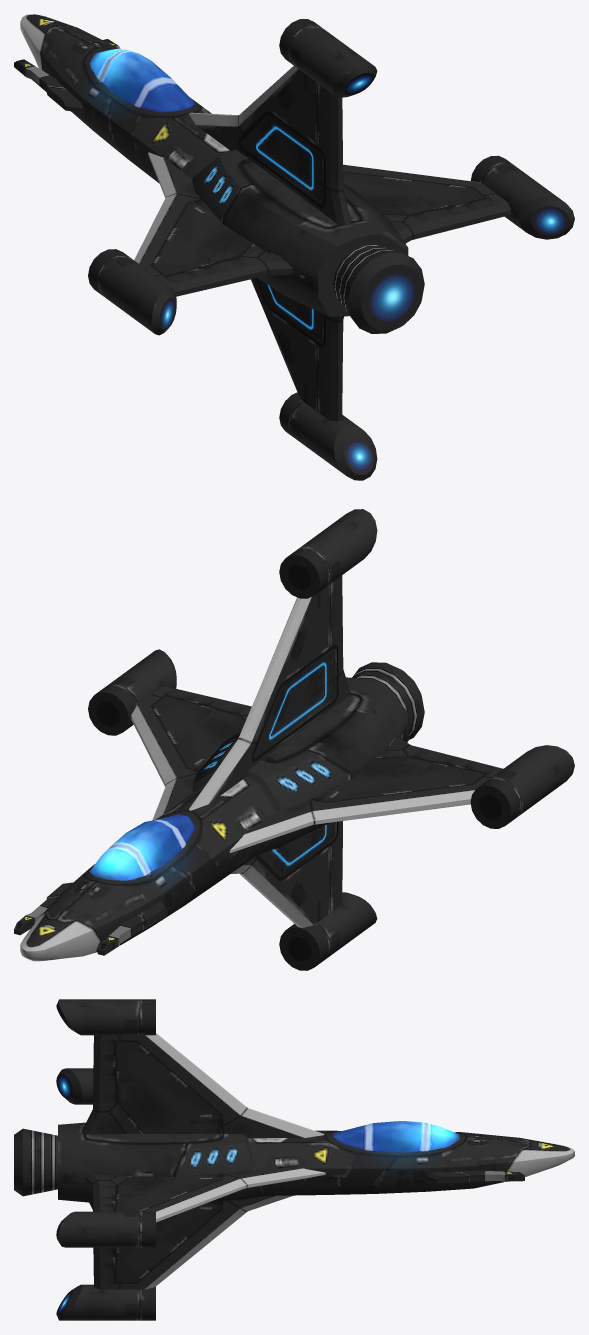
Rendered from scout12.gltf.
The picture shows the model from 3 angles, top to bottom: view 1: azimuth 30°, elevation 25°; view 2: azimuth 150°, elevation 25°; view 3: azimuth 270°, elevation 25°; orthographic projection. The views are drawn at different scales.
Parts seen in each view (by area): view 1: scout12; view 2: scout12; view 3: scout12.
Boxes of the visible parts, bbox=[...] form: scout12: bbox=[14, 14, 574, 480]; scout12: bbox=[14, 509, 574, 970]; scout12: bbox=[14, 999, 574, 1320].
Size of the model in its own units: 7.1 by 6.65 by 10.62.
1 material, 1 textured.
